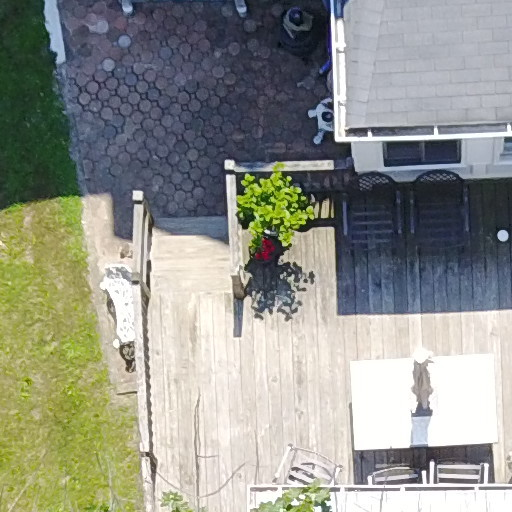container: (279, 3, 321, 46), (317, 104, 339, 131)
porch: (82, 100, 509, 512)
